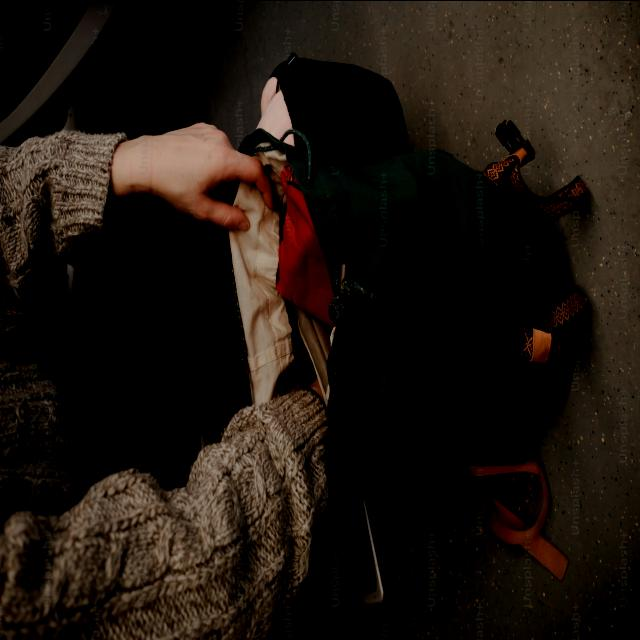backpack: (228, 136, 578, 497)
